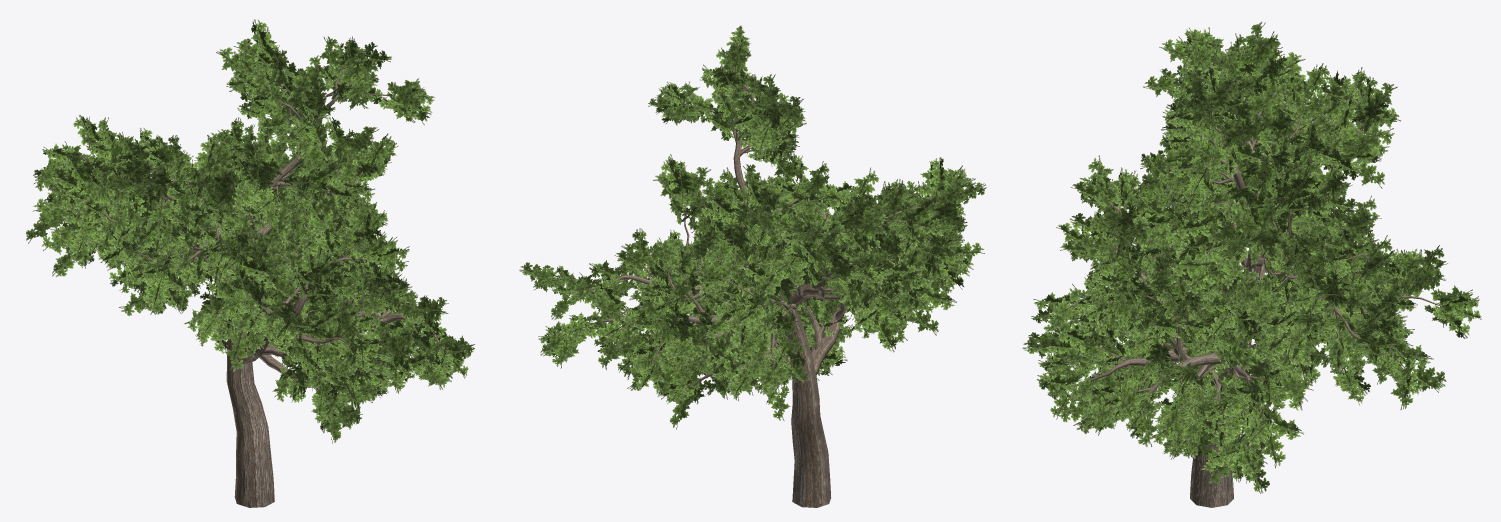
File: eztree-silver-maple-damp-b.glb
The picture shows the model from 3 angles, left to right: view 1: azimuth 30°, elevation 25°; view 2: azimuth 150°, elevation 25°; view 3: azimuth 270°, elevation 25°; orthographic projection. The views are drawn at different scales.
Parts seen in each view (by area): view 1: eztree-silver-maple-damp-b; view 2: eztree-silver-maple-damp-b; view 3: eztree-silver-maple-damp-b.
Boxes of the visible parts, x1,y1,x2,y2 form: eztree-silver-maple-damp-b: (26,19,474,507); eztree-silver-maple-damp-b: (519,25,986,507); eztree-silver-maple-damp-b: (1022,21,1481,507).
Size of the model in its own units: 66.7 by 71.31 by 60.94.
2 materials, 2 textured.
